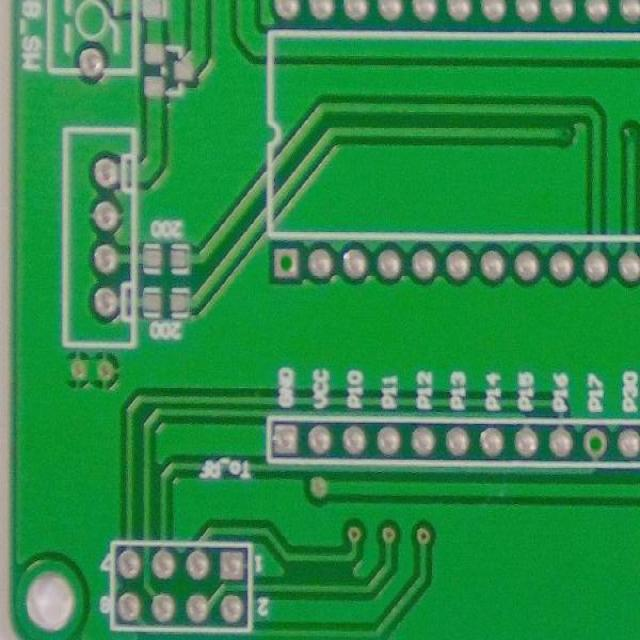missing hole: (271, 242, 303, 282), (582, 423, 612, 461)
